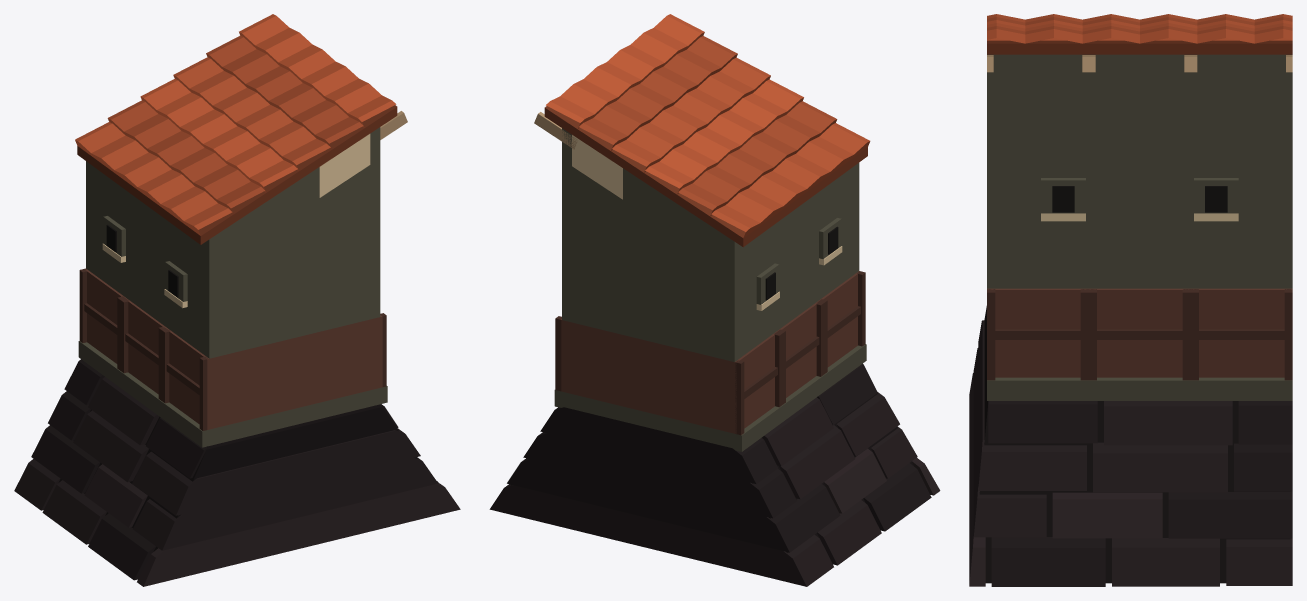
Rendered from VerWall01.glb.
3 views of the same model, side by side, from view 1: azimuth 30°, elevation 25°; view 2: azimuth 150°, elevation 25°; view 3: azimuth 270°, elevation 25° (orthographic). The views are drawn at different scales.
Parts seen in each view (by area): view 1: VerWall01_mortar; view 2: VerWall01_mortar; view 3: VerWall01_mortar.
Boxes of the visible parts, left/top/right/bottom form: VerWall01_mortar: left=14, top=14, right=460, bottom=586; VerWall01_mortar: left=489, top=14, right=940, bottom=586; VerWall01_mortar: left=969, top=14, right=1292, bottom=586.
Bounding box in the file's own units: 4.46 × 5.57 × 3.17.
